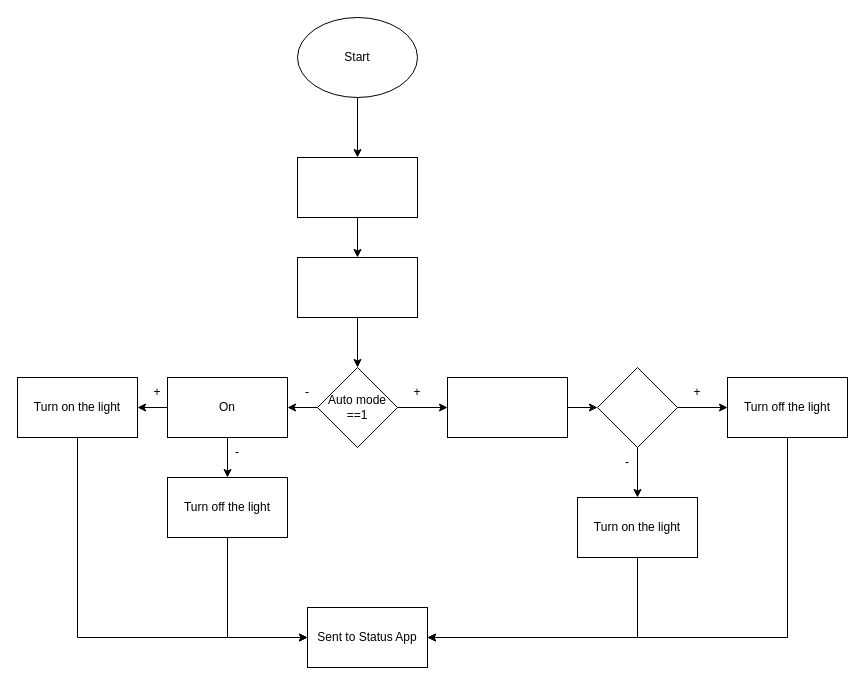
This 865x685 diagram has some shape labels left out. Here are the shapes that lost their labels. From the top down, the centre of each, then its label:
At [357,187]: "Initialize ESP8266 and components".
At [357,287]: "Connect to Wifi".
At [507,407]: "Read sensor value".
At [637,407]: "Sensor value > 700".
